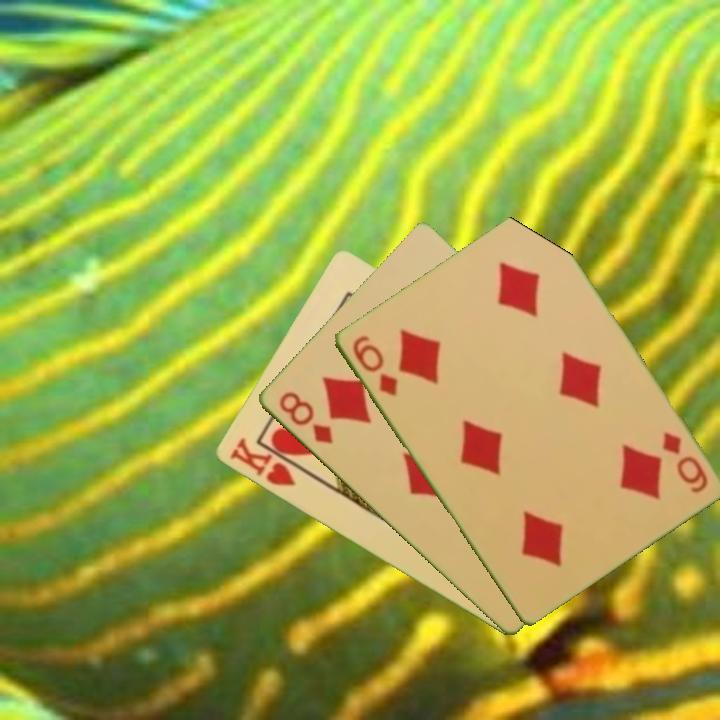6d: (657, 428, 711, 496), (348, 331, 401, 399)
8d: (274, 388, 336, 448)
Kh: (225, 434, 309, 490)
